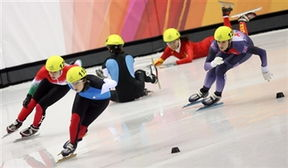fall: (149, 25, 231, 68)
